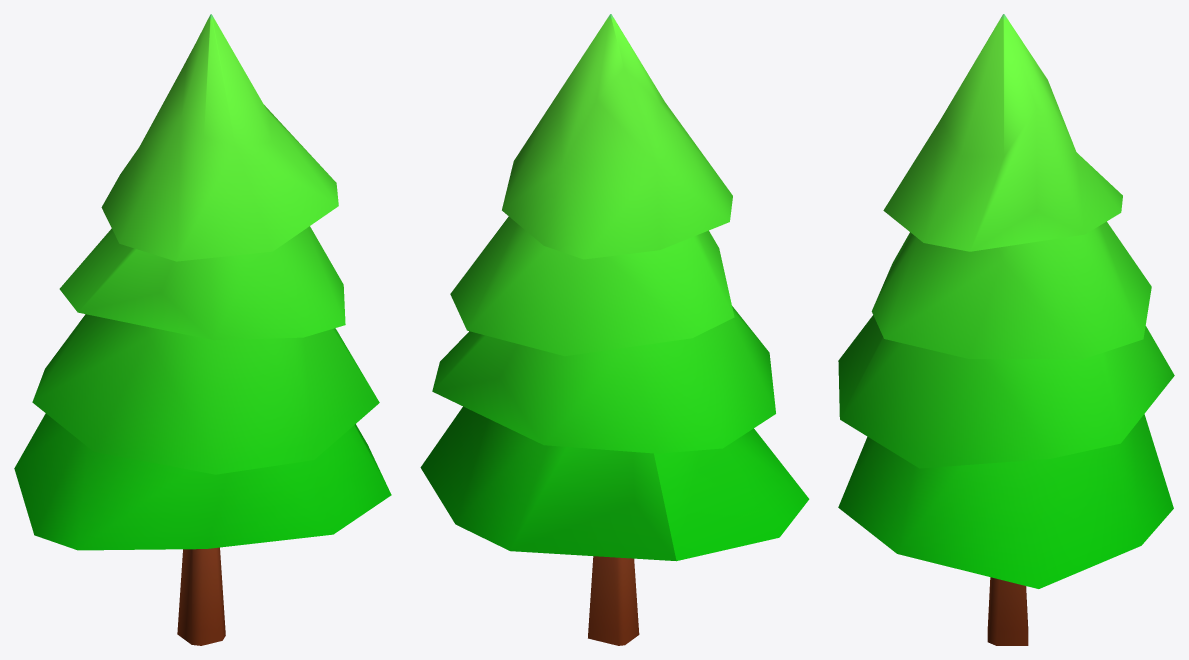
Rendered from pinetree.fbx.
3 views of the same model, side by side, from view 1: azimuth 30°, elevation 25°; view 2: azimuth 150°, elevation 25°; view 3: azimuth 270°, elevation 25° (orthographic).
Parts seen in each view (by area): view 1: pinetree; view 2: pinetree; view 3: pinetree.
Part boxes in pixels (bbox=[...]): pinetree: bbox=[14, 14, 391, 645]; pinetree: bbox=[420, 14, 809, 645]; pinetree: bbox=[838, 14, 1174, 645].
Size of the model in its own units: 400 by 685 by 333.
